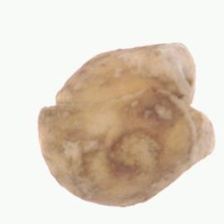L2: (37, 42, 216, 208)
